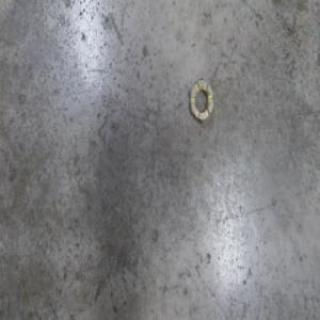Nuttrack_idkeyframe: (190, 76, 213, 125)
